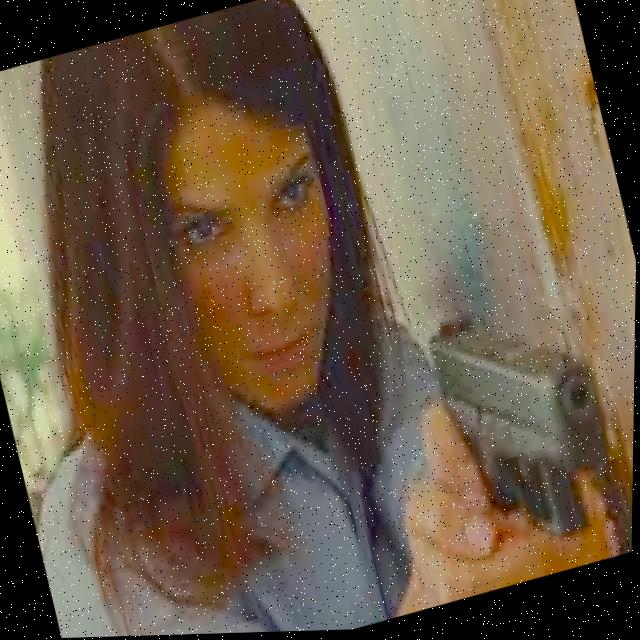pistol: (415, 278, 637, 569)
